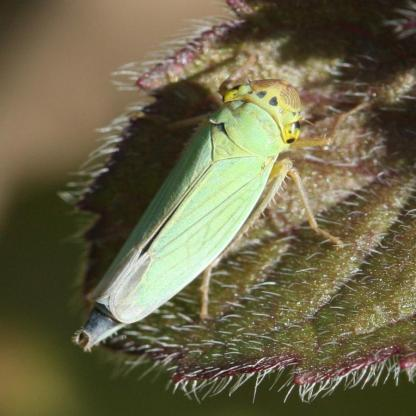Green-Leafhopper: (70, 55, 346, 358)
